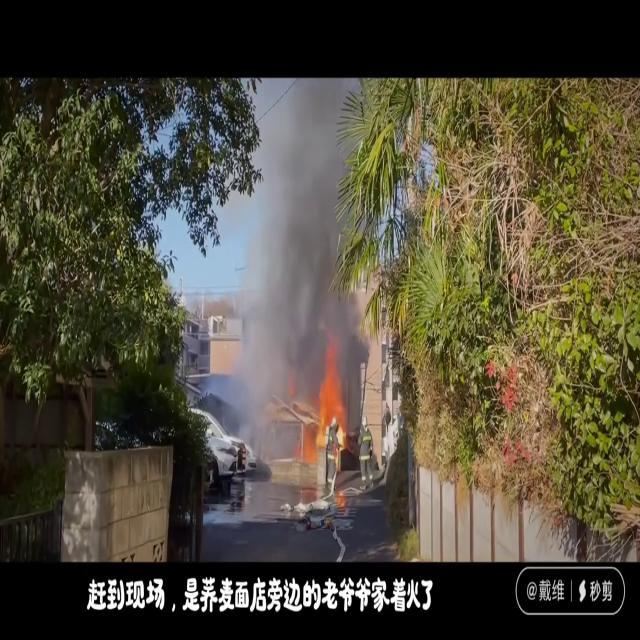Fire: (314, 352, 350, 468)
Smoke: (224, 78, 366, 421)
